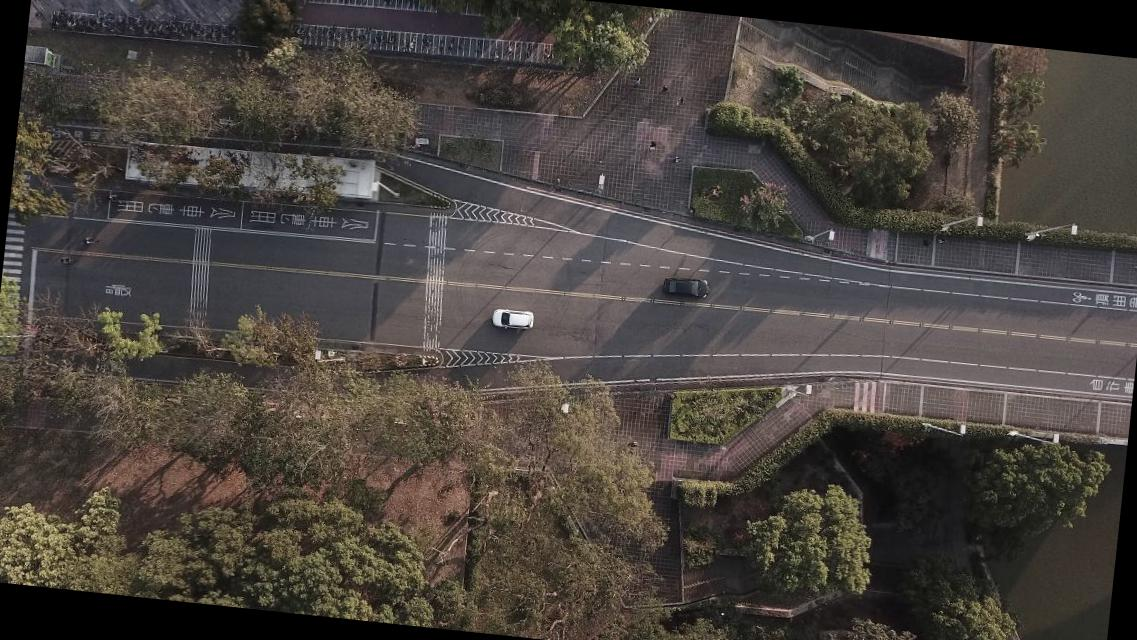vehicle: (661, 276, 710, 300), (490, 306, 534, 331)
